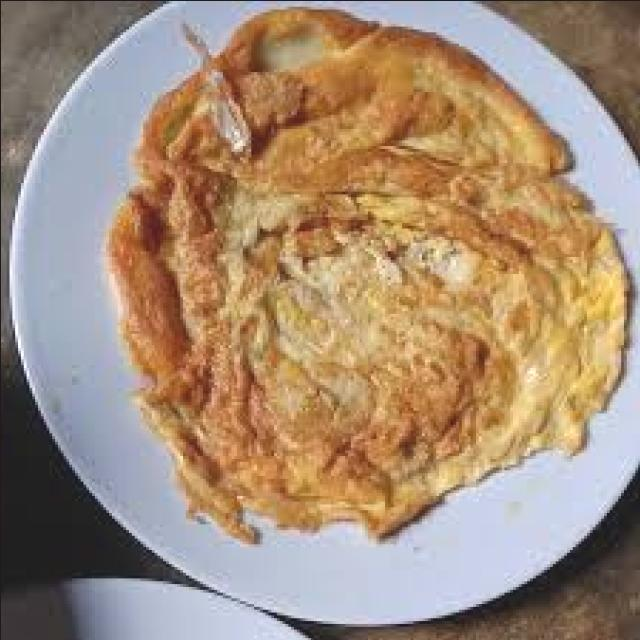telur dadar: (97, 6, 637, 552)
